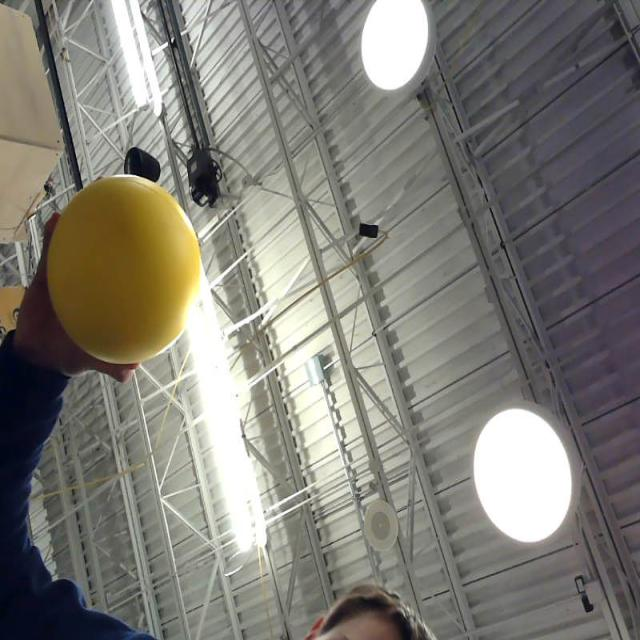Fuel: (48, 174, 200, 364)
